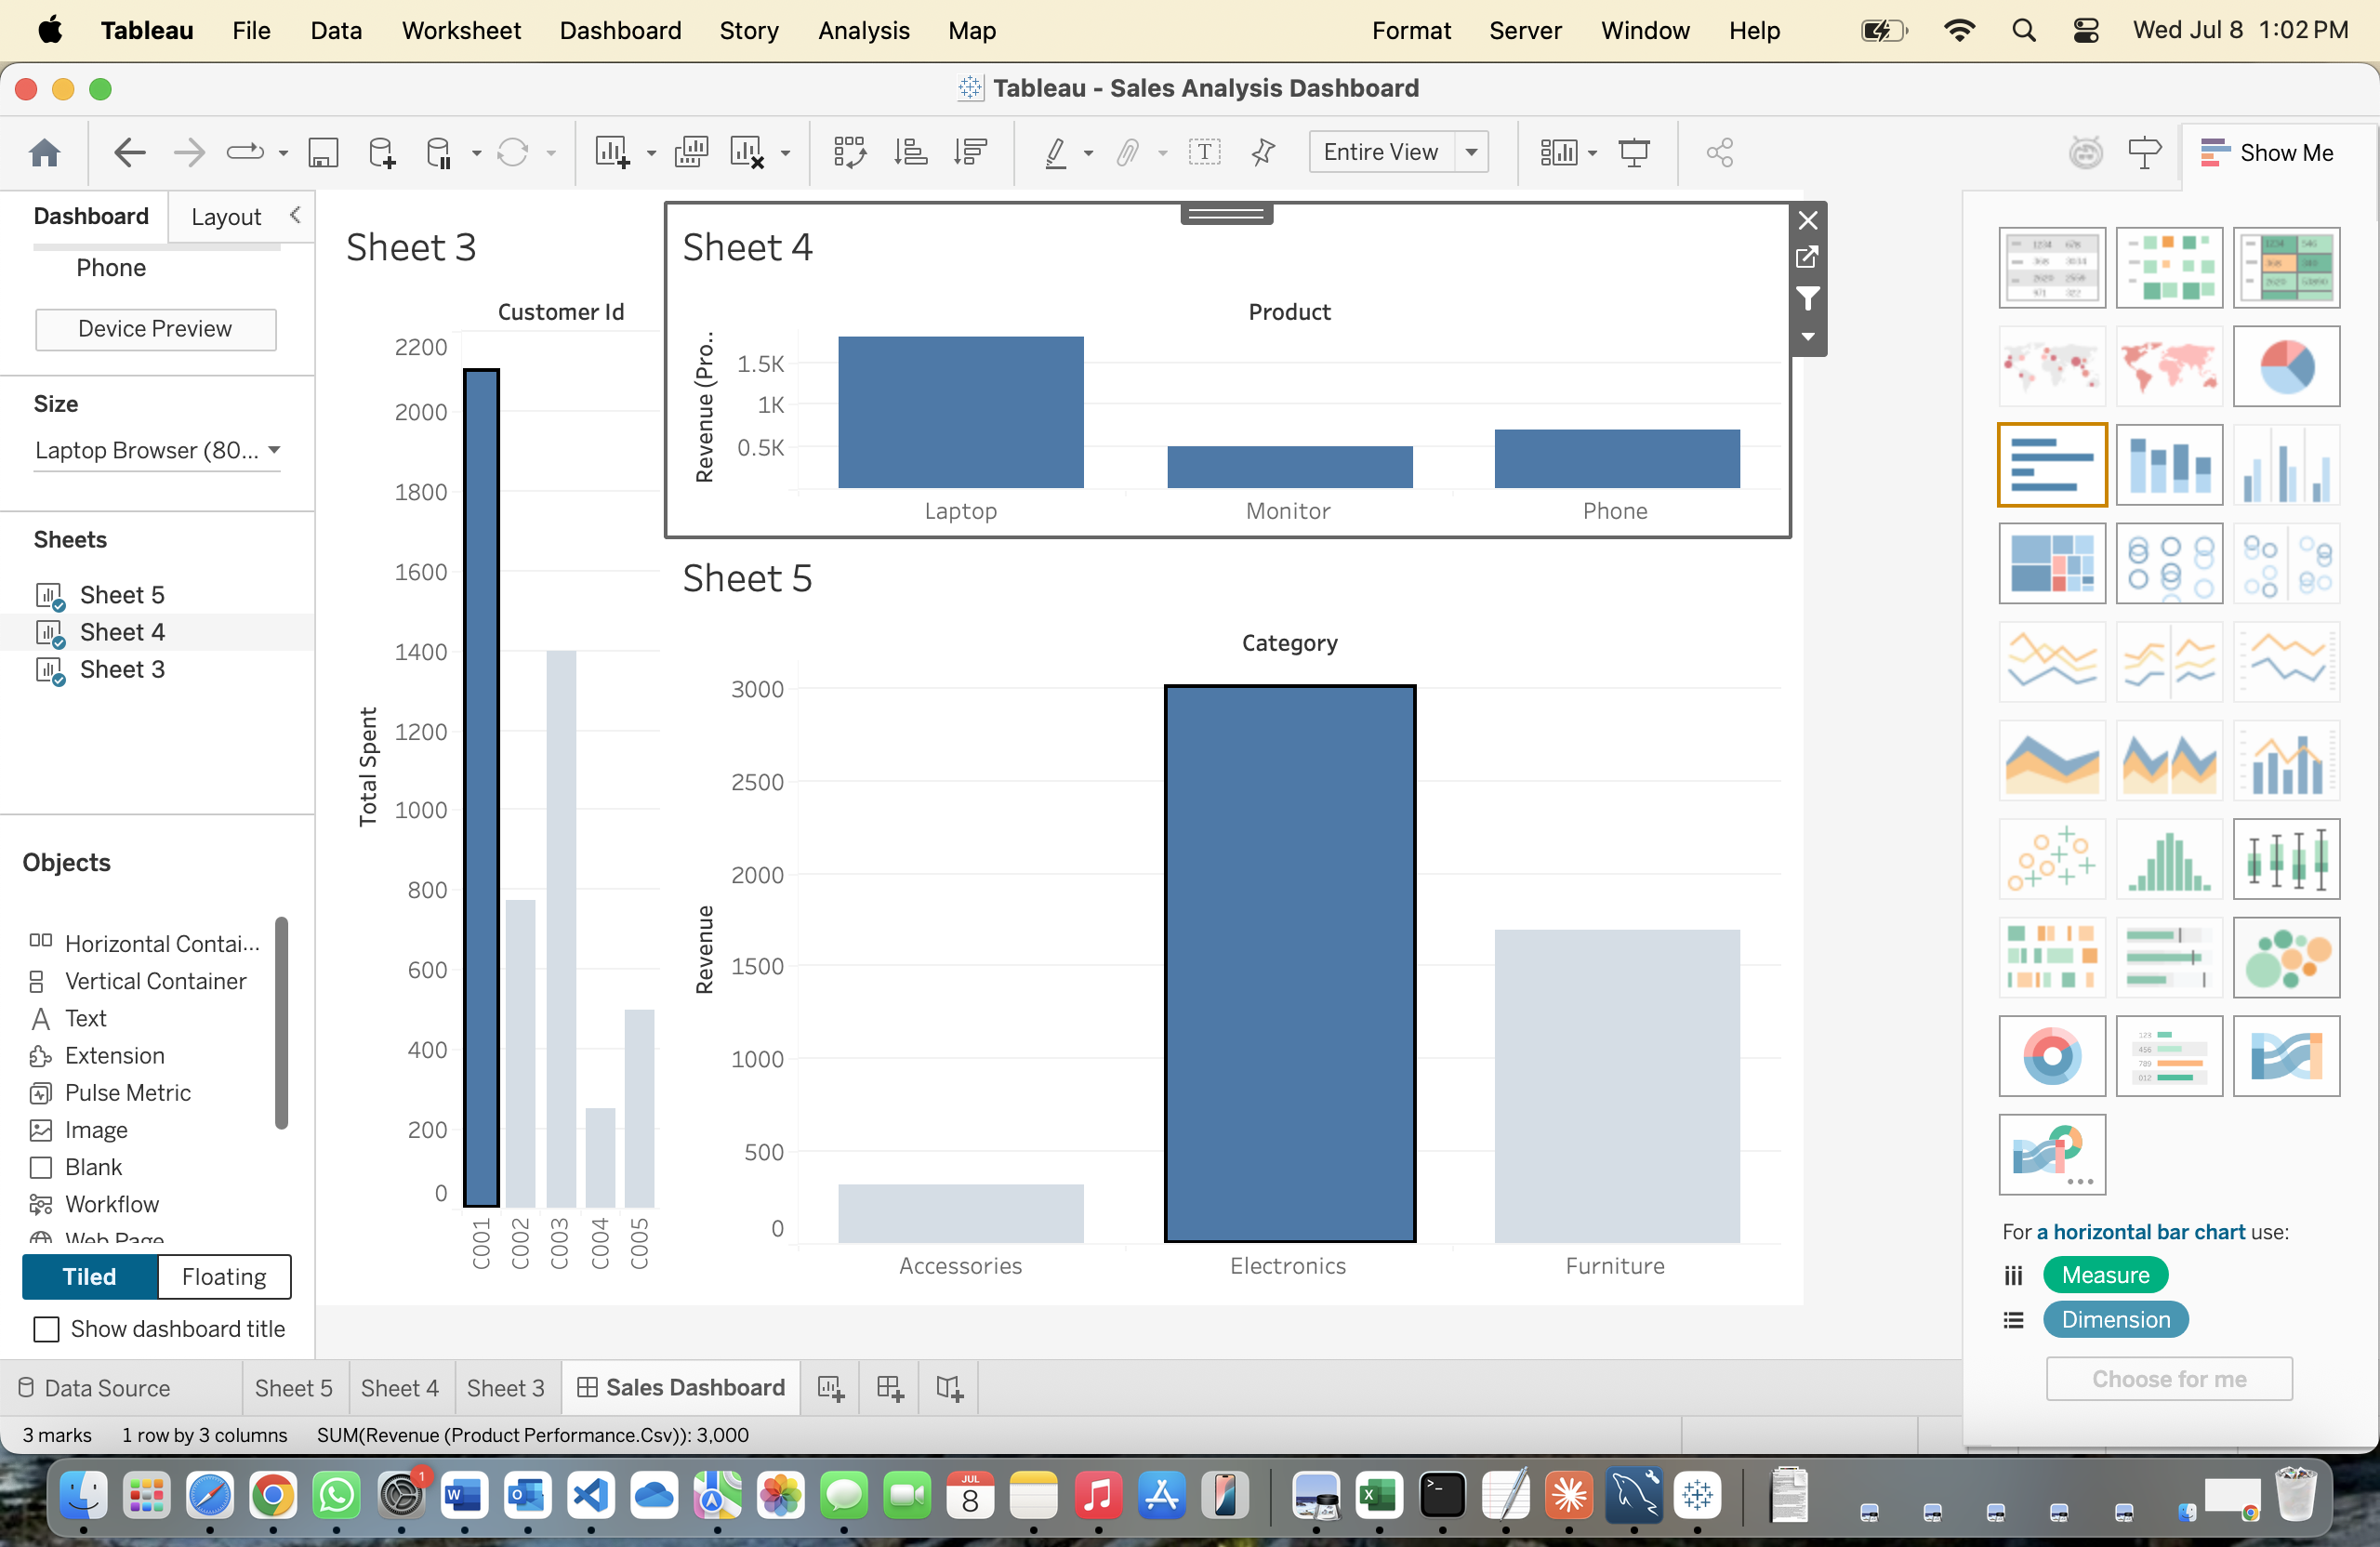

This screenshot's page, from the dashboard's own definition file:
{"tool":"tableau","page":{"name":"Sales Dashboard","canvas":[1000,800],"ordinal":0},"visuals":[{"type":"worksheet","title":"Sheet 3","mark":"Bar","rows":["total_spent"],"cols":["customer_id"],"box":[8,8,227,784]},{"type":"worksheet","title":"Sheet 5","mark":"Automatic","rows":["revenue"],"cols":["category"],"box":[235,8,757,305]},{"type":"worksheet","title":"Sheet 4","mark":"Automatic","rows":["revenue (product_performance.csv)"],"cols":["product"],"box":[235,313,757,479]}]}

Visuals, with their boxes in screenshot pixels (x1, y1, x2, y2):
"Sheet 3" worksheet (Bar marks): 28, 0, 461, 1451
"Sheet 5" worksheet: 461, 0, 1907, 535
"Sheet 4" worksheet: 461, 535, 1907, 1451
